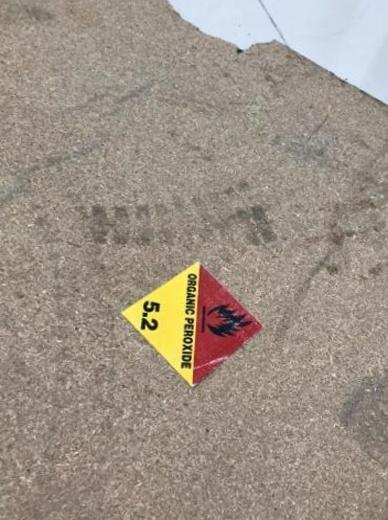organic-peroxide: (114, 257, 268, 389)
